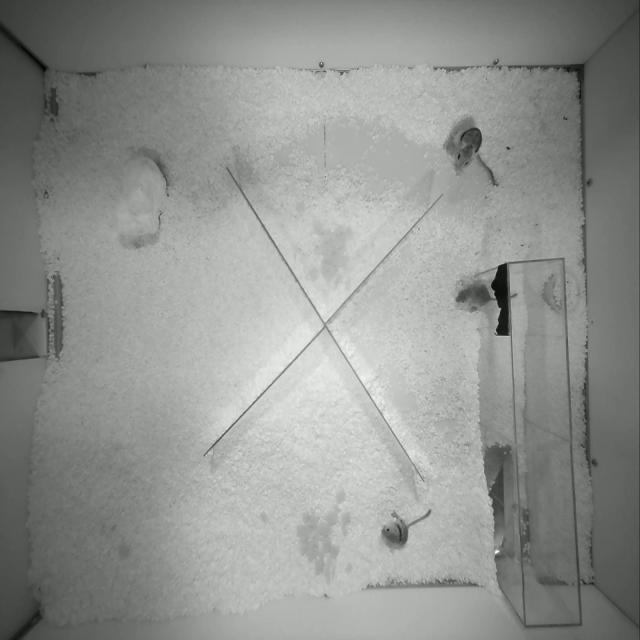adult_front: (454, 127, 497, 185)
pup_fluffy: (456, 282, 504, 312), (510, 294, 517, 298)
pup_h_stripe: (381, 509, 431, 547)
